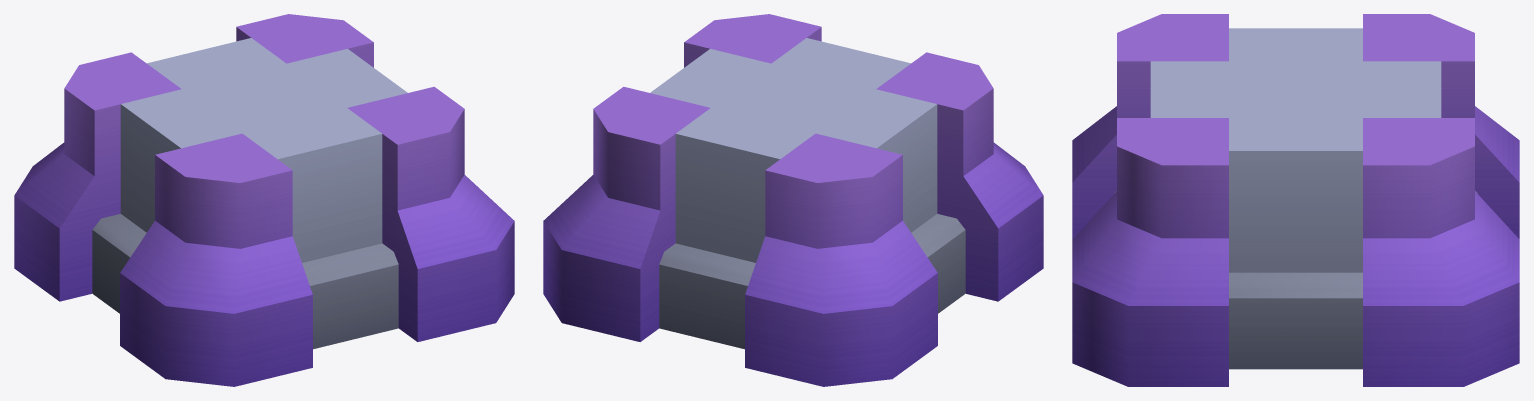
The model's file is tower-square-bottom-b.fbx.
3 renders of one model, left to right at view 1: azimuth 30°, elevation 25°; view 2: azimuth 150°, elevation 25°; view 3: azimuth 270°, elevation 25°, orthographic. The views are drawn at different scales.
Visible parts, largest first — view 1: tower-square-bottom-b; view 2: tower-square-bottom-b; view 3: tower-square-bottom-b.
Boxes of the visible parts, box(x1,y1,x2,y2) form: tower-square-bottom-b: box(14, 14, 514, 386); tower-square-bottom-b: box(543, 14, 1043, 386); tower-square-bottom-b: box(1072, 14, 1519, 386).
Bounding box in the file's own units: 100 × 50 × 100.
